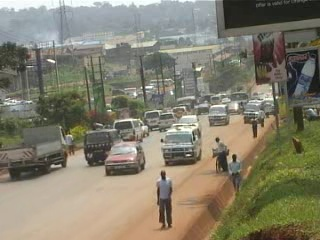Car: (101, 137, 146, 177), (177, 113, 203, 134), (156, 111, 178, 133), (134, 119, 151, 137), (226, 99, 242, 116), (194, 103, 211, 115), (219, 95, 231, 107)
